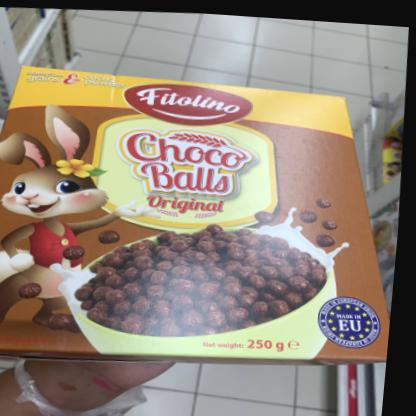cereal box: (0, 43, 412, 384)
